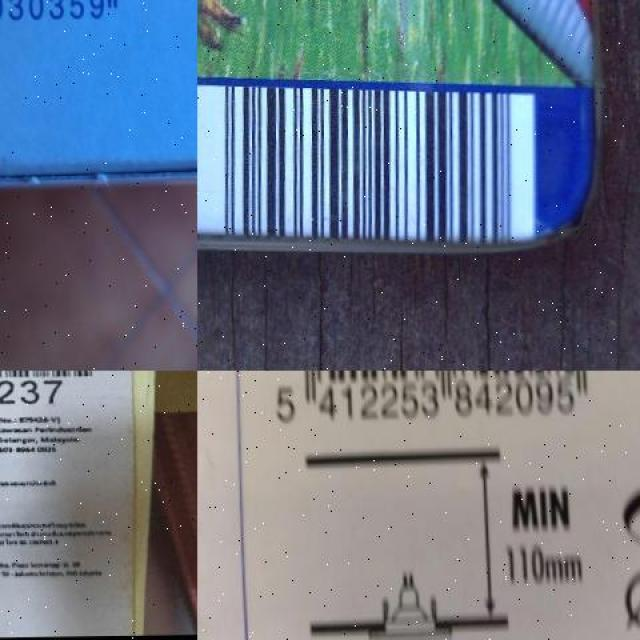Barcode: (197, 80, 535, 244), (253, 371, 607, 444), (0, 370, 101, 409)
